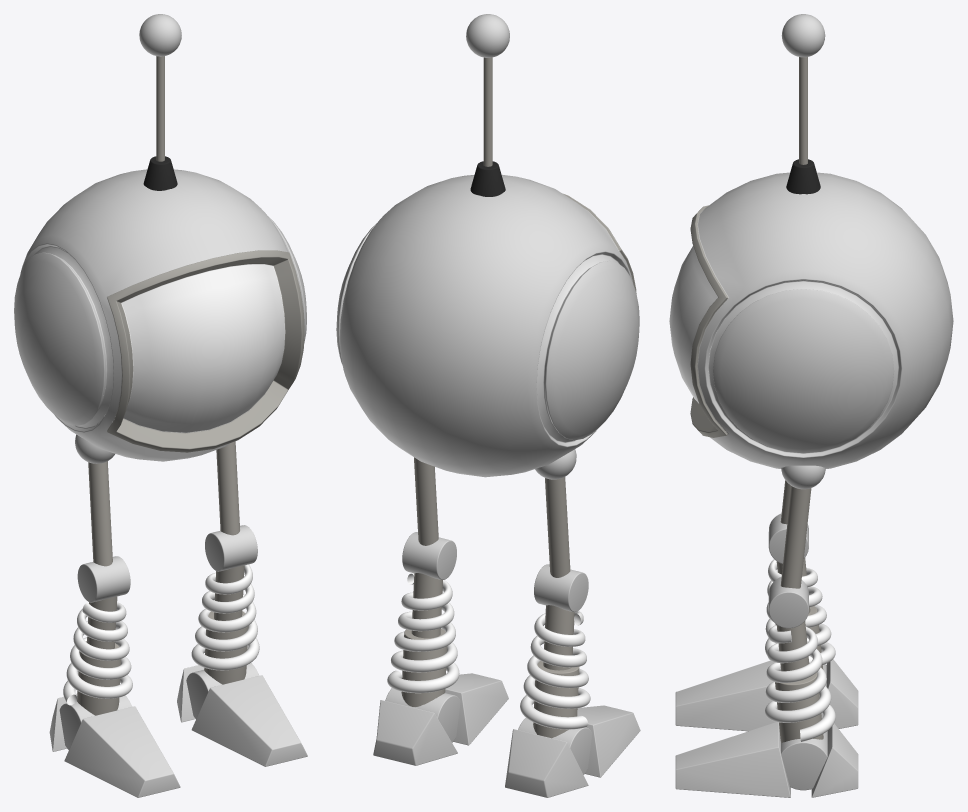
File: Novaa.glb
3 views of the same model, side by side, from view 1: azimuth 30°, elevation 25°; view 2: azimuth 150°, elevation 25°; view 3: azimuth 270°, elevation 25° (orthographic). The views are drawn at different scales.
Parts seen in each view (by area): view 1: Objeto_7, Objeto_3, Objeto_4, Objeto_1, Objeto_2, Objeto_6, Objeto_5; view 2: Objeto_7, Objeto_4, Objeto_2, Objeto_1, Objeto_6, Objeto_5; view 3: Objeto_7, Objeto_4, Objeto_2, Objeto_3, Objeto_6, Objeto_1, Objeto_5.
Boxes of the visible parts, <box> form: Objeto_7: <box>14,14,307,797</box>; Objeto_3: <box>121,264,285,432</box>; Objeto_4: <box>77,56,304,715</box>; Objeto_1: <box>63,602,132,705</box>; Objeto_2: <box>191,564,259,670</box>; Objeto_6: <box>34,246,113,428</box>; Objeto_5: <box>143,156,177,190</box>; Objeto_7: <box>336,14,640,797</box>; Objeto_4: <box>401,57,636,738</box>; Objeto_2: <box>387,573,459,693</box>; Objeto_1: <box>520,611,590,729</box>; Objeto_6: <box>536,254,618,442</box>; Objeto_5: <box>470,161,505,196</box>; Objeto_7: <box>675,14,953,797</box>; Objeto_4: <box>690,57,823,742</box>; Objeto_2: <box>765,625,835,741</box>; Objeto_3: <box>669,246,717,403</box>; Objeto_6: <box>708,281,898,452</box>; Objeto_1: <box>765,559,835,665</box>; Objeto_5: <box>786,159,820,194</box>.
Bounding box in the file's own units: 0.558 × 1.5 × 0.5284.
Materials: 6 (1 with a texture image).
